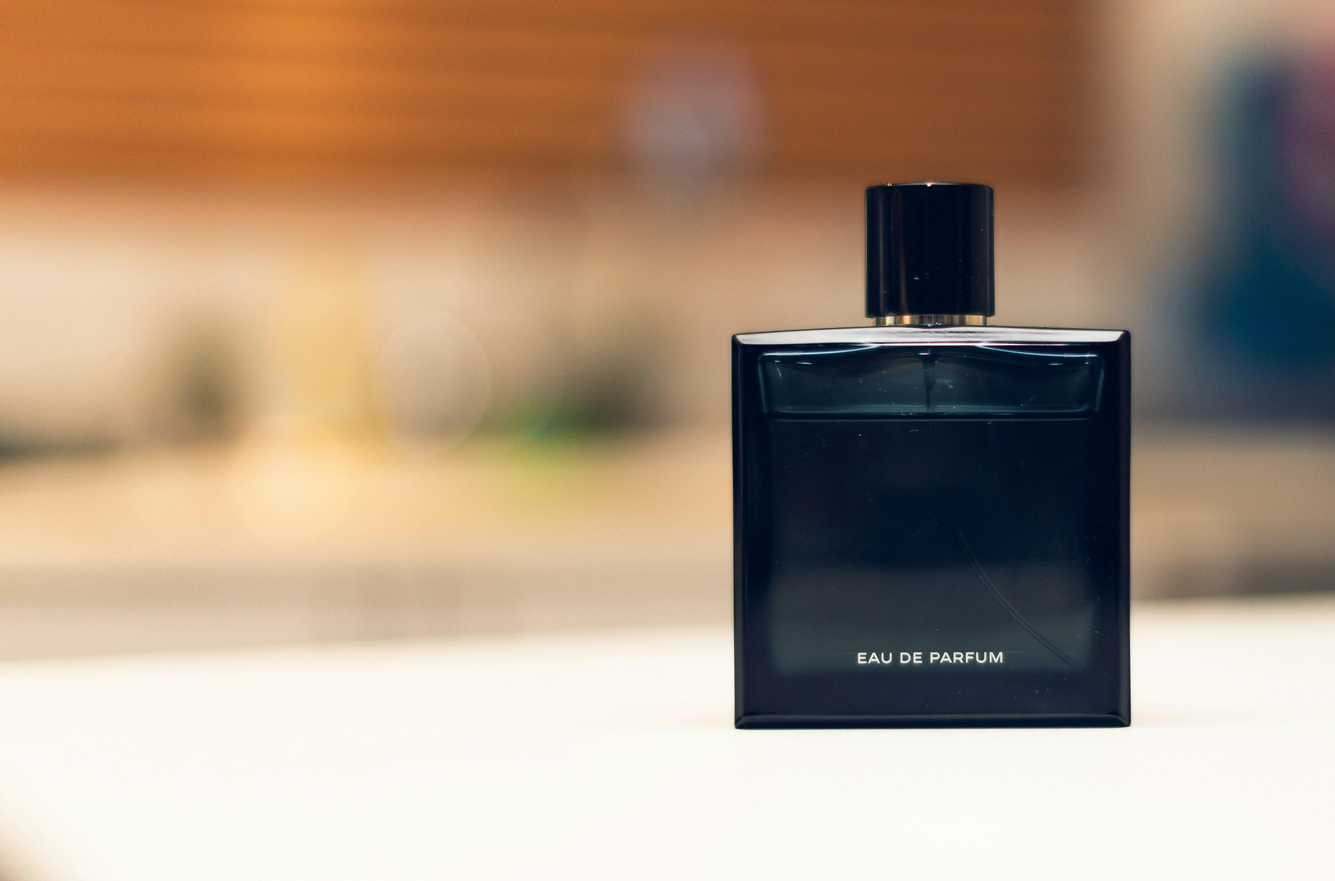Bottle-Detection: (618, 128, 1238, 788)
